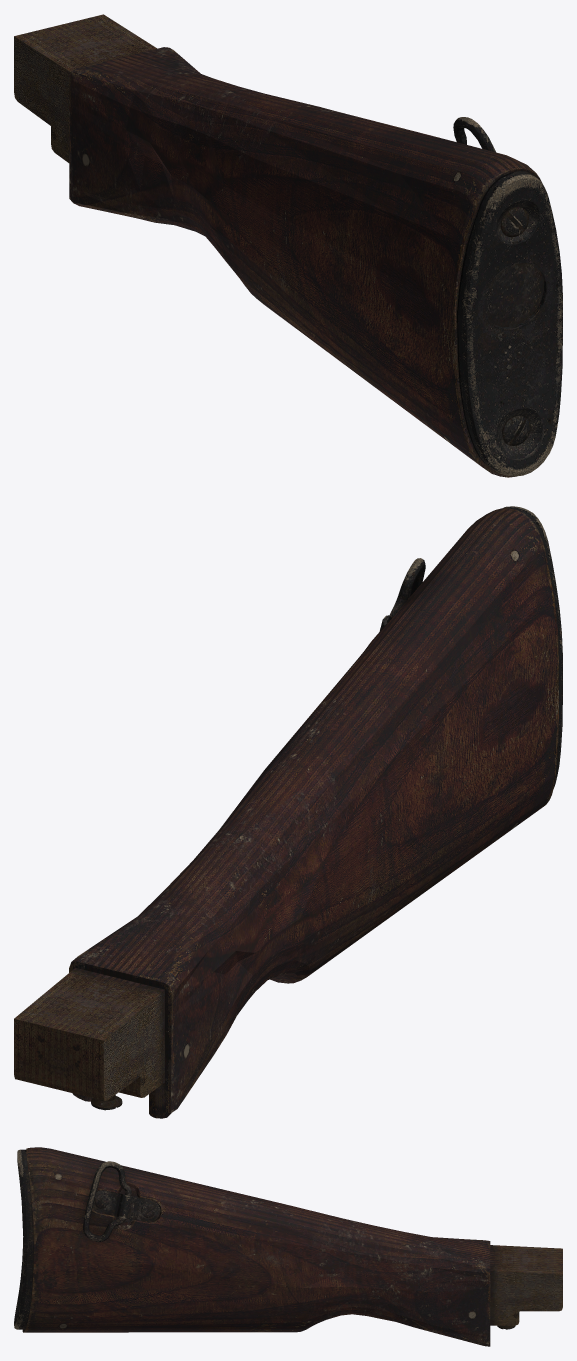
3 views of the same model, one above another, from view 1: azimuth 30°, elevation 25°; view 2: azimuth 150°, elevation 25°; view 3: azimuth 270°, elevation 25° (orthographic). The views are drawn at different scales.
Visible parts, largest first — view 1: TW_59e6227d86f77440d64f5dc2_PZ_Import; view 2: TW_59e6227d86f77440d64f5dc2_PZ_Import; view 3: TW_59e6227d86f77440d64f5dc2_PZ_Import.
Boxes of the visible parts, x1=… form: TW_59e6227d86f77440d64f5dc2_PZ_Import: x1=14, y1=14, x2=562, y2=477; TW_59e6227d86f77440d64f5dc2_PZ_Import: x1=14, y1=506, x2=562, y2=1118; TW_59e6227d86f77440d64f5dc2_PZ_Import: x1=14, y1=1147, x2=562, y2=1346.
Bounding box in the file's own units: 0.0231 × 0.1568 × 0.0585.
1 material, 1 textured.
